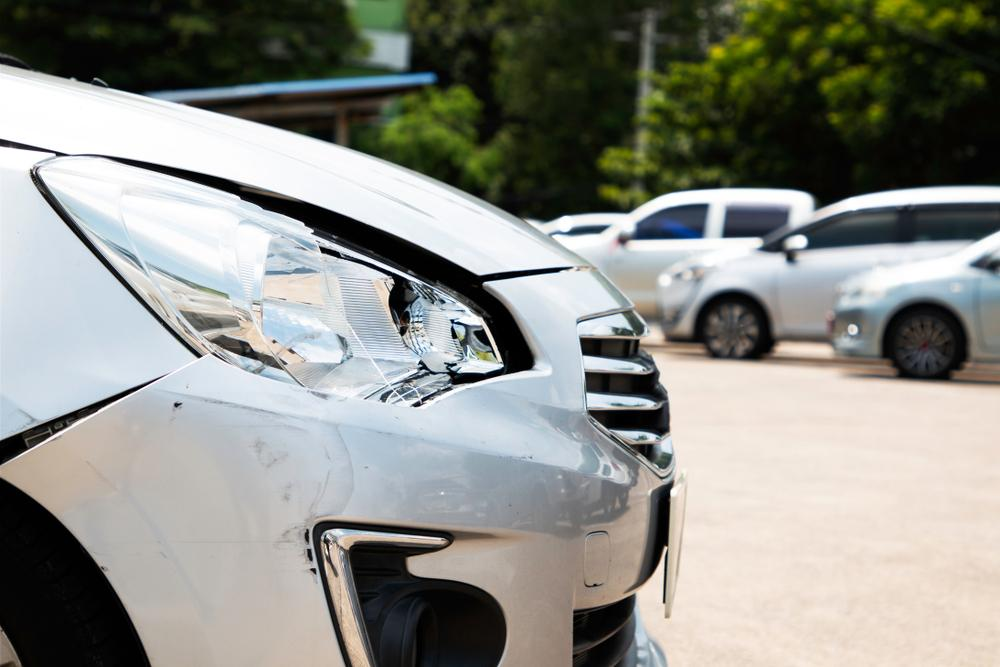lamp broken: (32, 155, 513, 408)
scratch: (169, 379, 357, 581)
